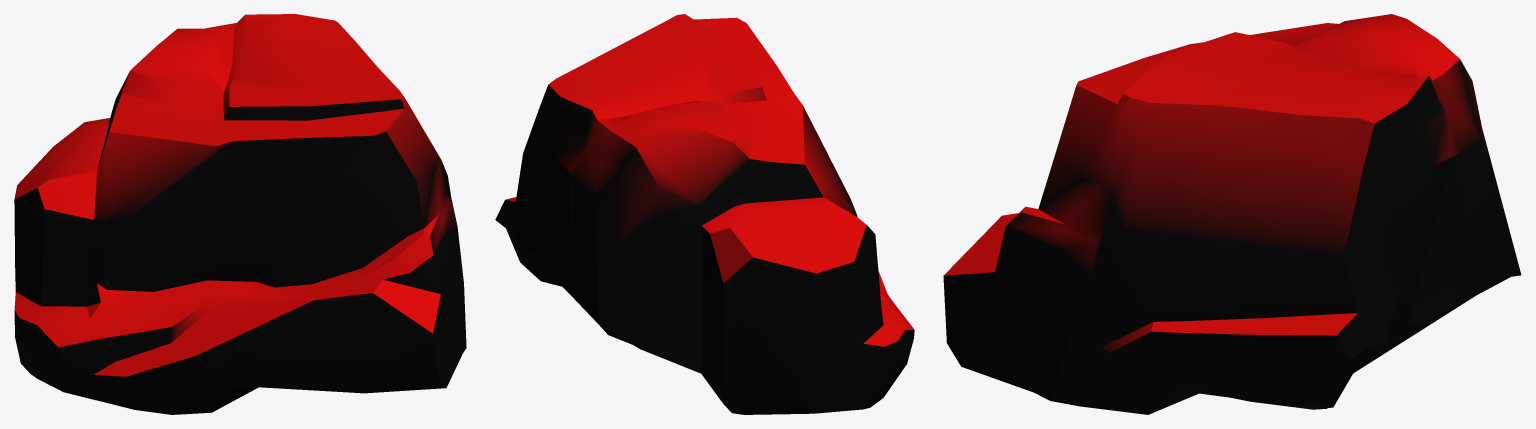
File: rock3.glb
3 views of the same model, side by side, from view 1: azimuth 30°, elevation 25°; view 2: azimuth 150°, elevation 25°; view 3: azimuth 270°, elevation 25° (orthographic). The views are drawn at different scales.
Parts seen in each view (by area): view 1: Rock_Medium_3; view 2: Rock_Medium_3; view 3: Rock_Medium_3.
Part boxes in pixels (x1,y1,x2,y2): Rock_Medium_3: (14,14,466,414); Rock_Medium_3: (495,14,914,414); Rock_Medium_3: (943,14,1521,414).
Bounding box in the file's own units: 3.42 × 2.32 × 3.48.
